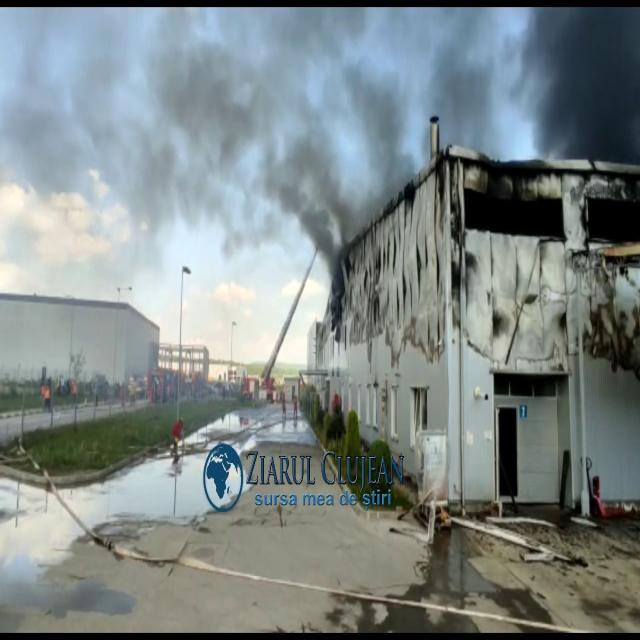Smoke: (136, 4, 405, 304), (507, 3, 640, 210)
